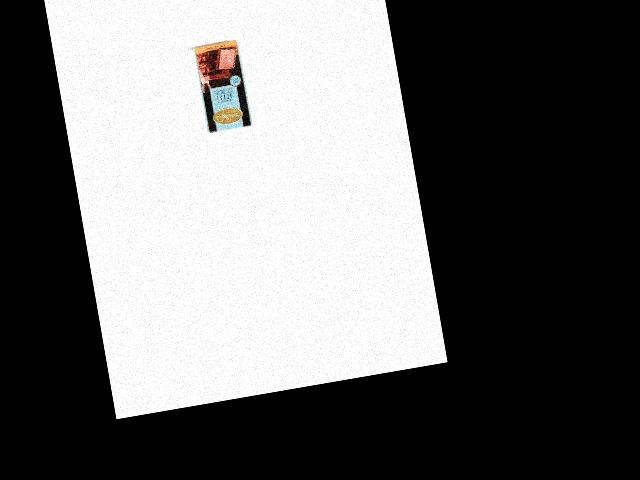chocolate: (191, 38, 253, 134)
